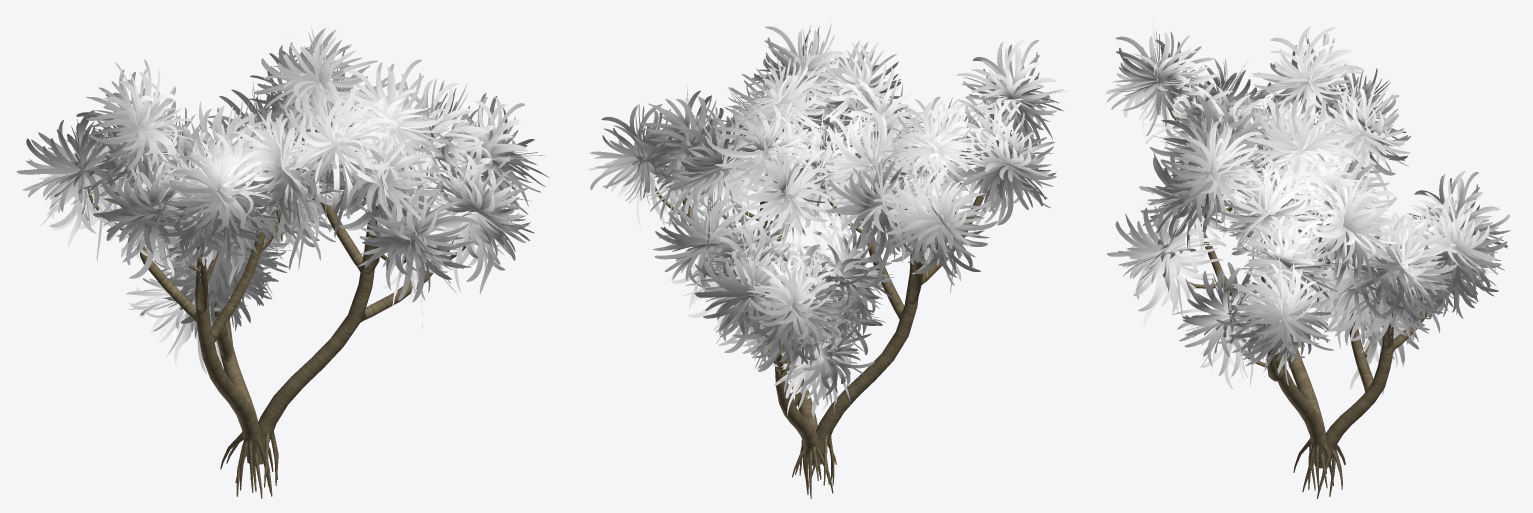
Rendered from Pandanace2.fbx.
3 renders of one model, left to right at view 1: azimuth 30°, elevation 25°; view 2: azimuth 150°, elevation 25°; view 3: azimuth 270°, elevation 25°, orthographic. The views are drawn at different scales.
Visible parts, largest first — view 1: Pandanace2_LOD0; view 2: Pandanace2_LOD0; view 3: Pandanace2_LOD0.
Part boxes in pixels (x1,y1,x2,y2): Pandanace2_LOD0: [16, 25, 549, 498]; Pandanace2_LOD0: [588, 23, 1066, 498]; Pandanace2_LOD0: [1105, 22, 1510, 498].
Size of what is drawn, in the model's own units: 1020 by 941 by 843.
